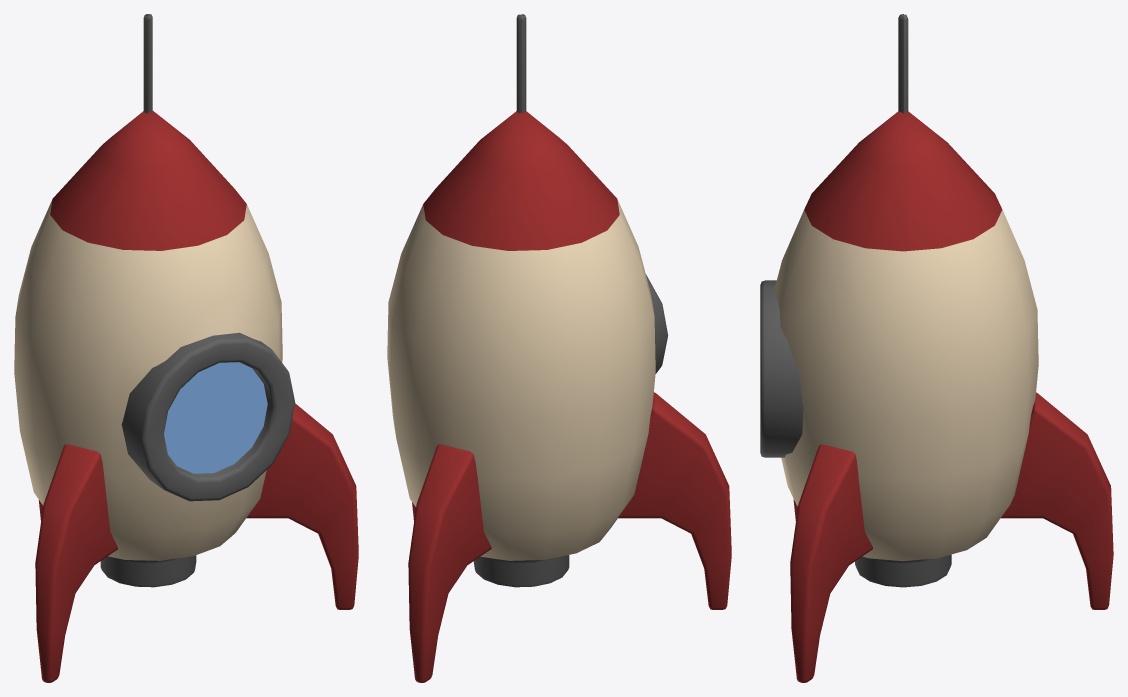
File: mod_rocket.FBX
The picture shows the model from 3 angles, left to right: view 1: azimuth 30°, elevation 25°; view 2: azimuth 150°, elevation 25°; view 3: azimuth 270°, elevation 25°; orthographic projection.
Parts seen in each view (by area): view 1: mesh_rocket; view 2: mesh_rocket; view 3: mesh_rocket.
Part boxes in pixels (x1,y1,x2,y2): mesh_rocket: (14, 14, 358, 682); mesh_rocket: (387, 14, 731, 682); mesh_rocket: (760, 14, 1113, 682).
Bounding box in the file's own units: 181 × 320 × 172.
1 material, 1 textured.
